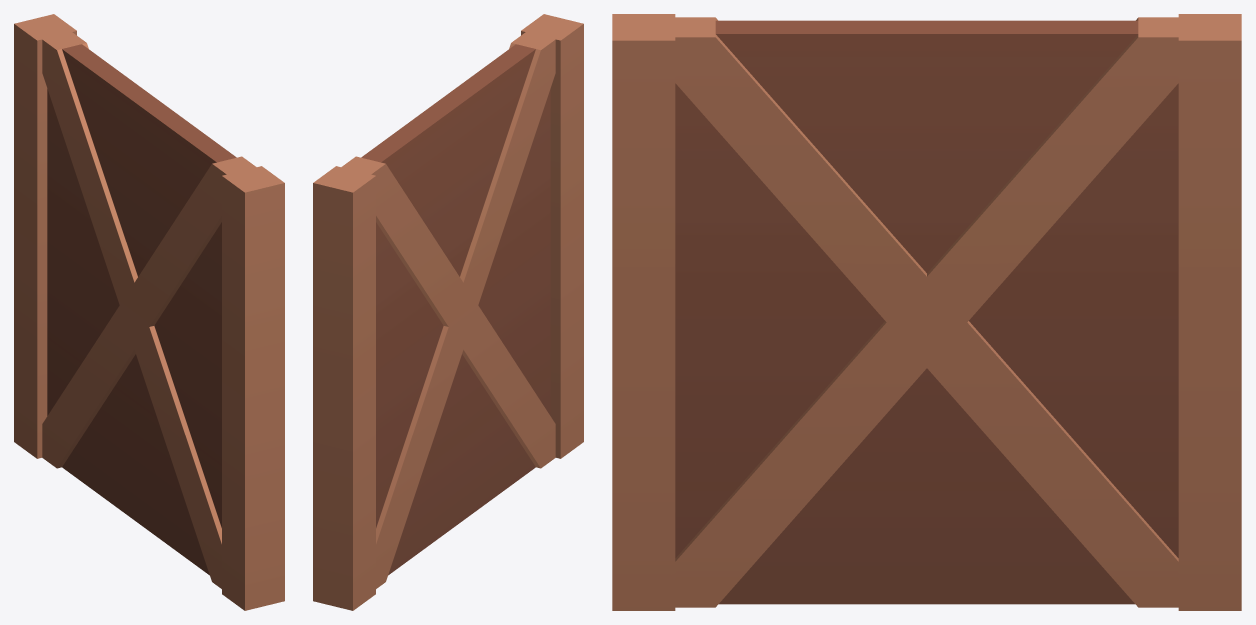
File: wall-wood-detail-cross.glb
The picture shows the model from 3 angles, left to right: view 1: azimuth 30°, elevation 25°; view 2: azimuth 150°, elevation 25°; view 3: azimuth 270°, elevation 25°; orthographic projection. The views are drawn at different scales.
Visible parts, largest first — view 1: wall-wood-detail-cross; view 2: wall-wood-detail-cross; view 3: wall-wood-detail-cross.
Boxes of the visible parts, <box> form: wall-wood-detail-cross: <box>14,14,284,610</box>; wall-wood-detail-cross: <box>313,14,583,610</box>; wall-wood-detail-cross: <box>612,14,1241,610</box>.
Bounding box in the file's own units: 0.1 × 1 × 1.
1 material, 1 textured.
